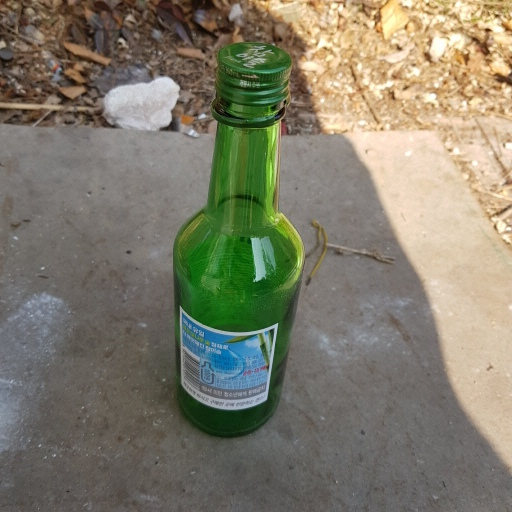Glass_0: (167, 40, 306, 433)
